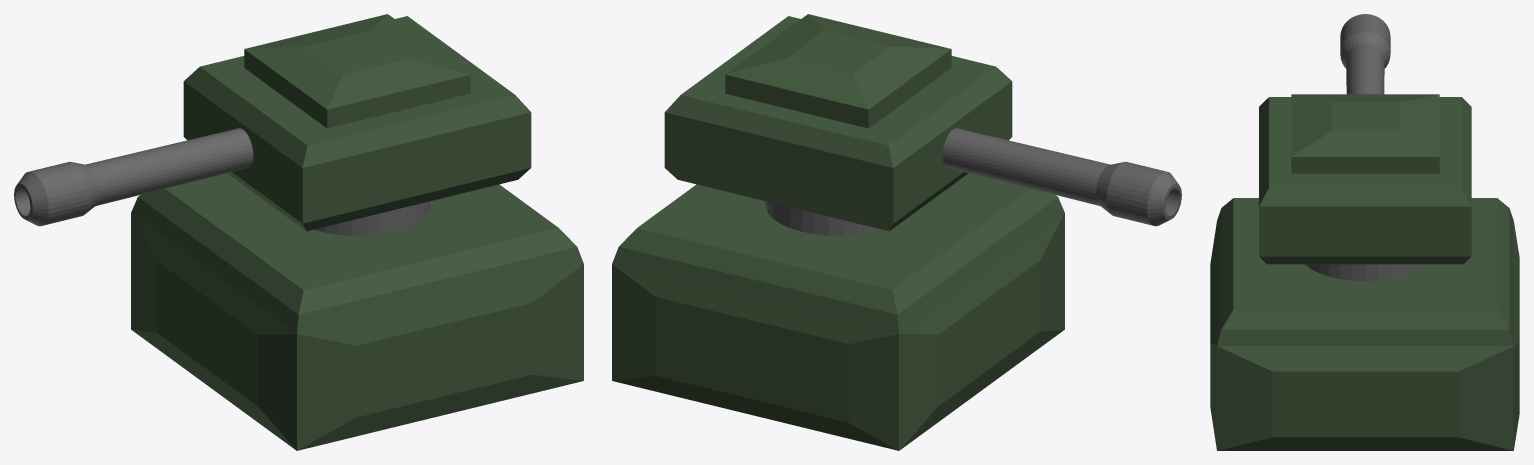
File: Tank_Tower.fbx
3 views of the same model, side by side, from view 1: azimuth 30°, elevation 25°; view 2: azimuth 150°, elevation 25°; view 3: azimuth 270°, elevation 25° (orthographic). The views are drawn at different scales.
Parts seen in each view (by area): view 1: Base, Top, Cube, Cylinder.001, Cylinder; view 2: Base, Top, Cube, Cylinder.001, Cylinder; view 3: Base, Top, Cube, Cylinder.001, Cylinder.
Part boxes in pixels (left/top/right/bottom): Base: left=131, top=173, right=583, bottom=450; Top: left=183, top=16, right=531, bottom=231; Cube: left=244, top=14, right=470, bottom=128; Cylinder.001: left=14, top=128, right=253, bottom=226; Cylinder: left=314, top=201, right=430, bottom=235; Base: left=612, top=173, right=1064, bottom=450; Top: left=664, top=16, right=1012, bottom=231; Cube: left=725, top=14, right=951, bottom=128; Cylinder.001: left=942, top=128, right=1181, bottom=226; Cylinder: left=765, top=201, right=881, bottom=235; Base: left=1210, top=198, right=1519, bottom=450; Top: left=1259, top=97, right=1471, bottom=264; Cube: left=1291, top=94, right=1439, bottom=173; Cylinder.001: left=1340, top=14, right=1390, bottom=94; Cylinder: left=1305, top=264, right=1425, bottom=281.
Size of the model in its own units: 685 by 403 by 417.
